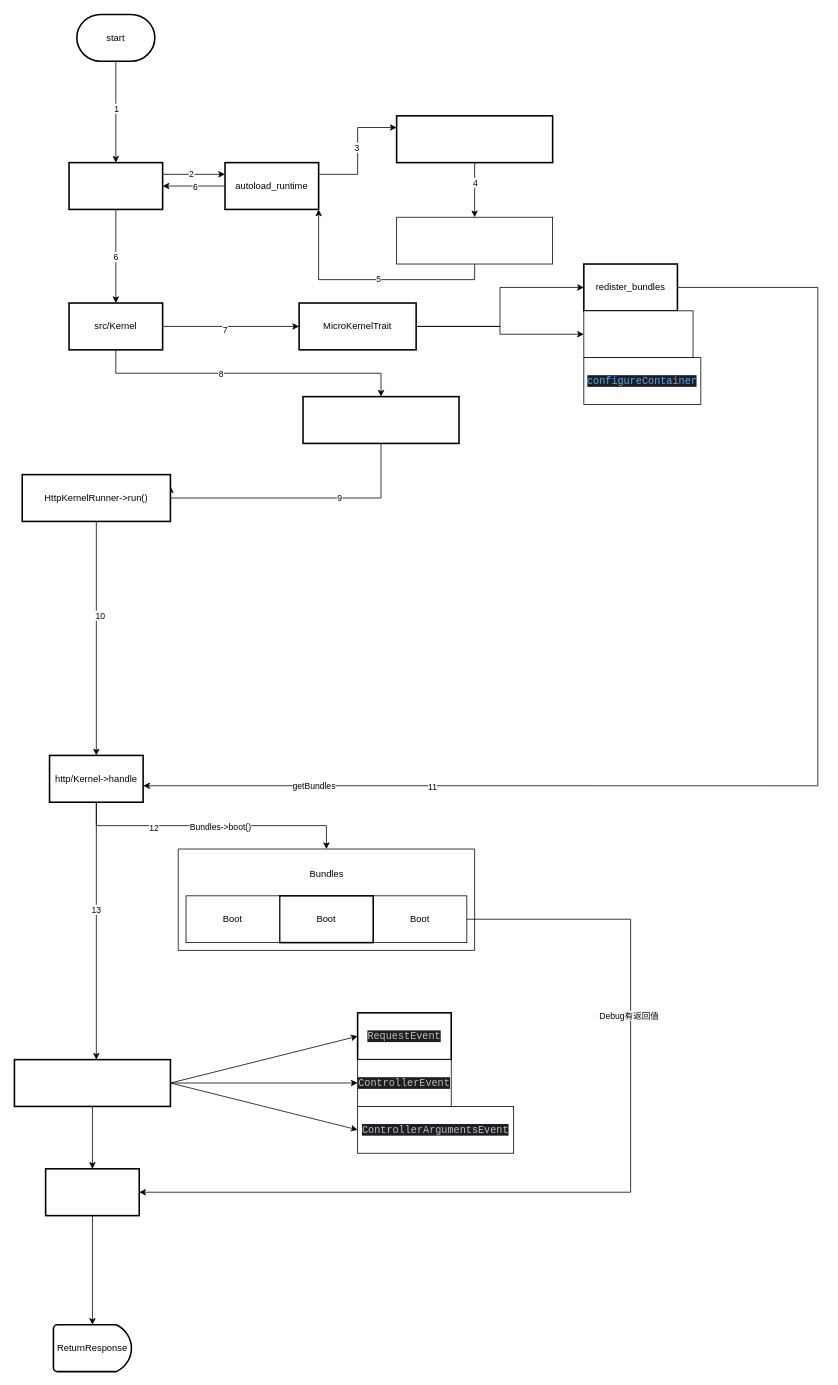
The diagram is 838 pixels wide and 1385 high, and some of its shapes have lost their labels. Each missing label, with the centre of its shape:
"ClosureResolver->resolve()" belongs at [474,240].
"configureRoutes" belongs at [638,334].
"Controller" belongs at [92,1192].
"HttpKernel" belongs at [92,1082].
"index.php" belongs at [115,185].
"SymfonyRuntime->getArgument()" belongs at [474,139].
"symfonyRuntime->getRunner()" belongs at [380,419].
